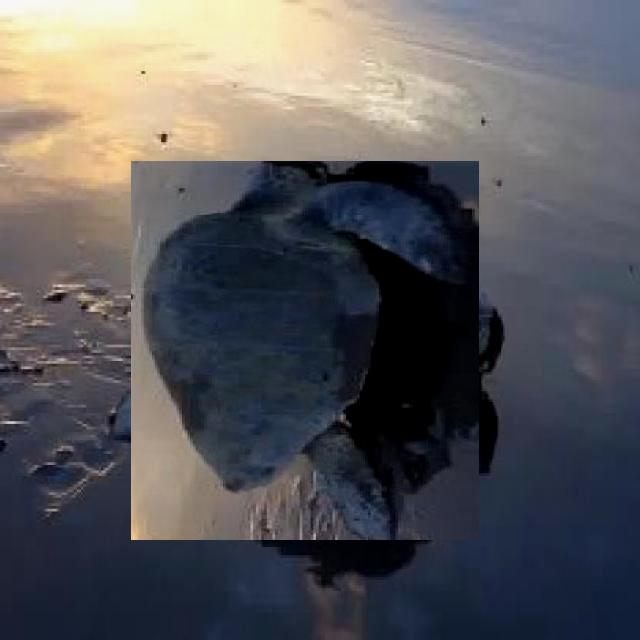Sea turtle: (123, 168, 487, 532)
